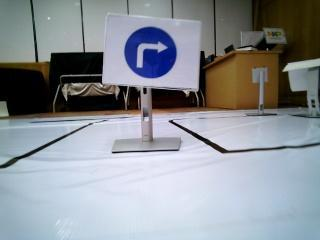right: (106, 15, 187, 88)
